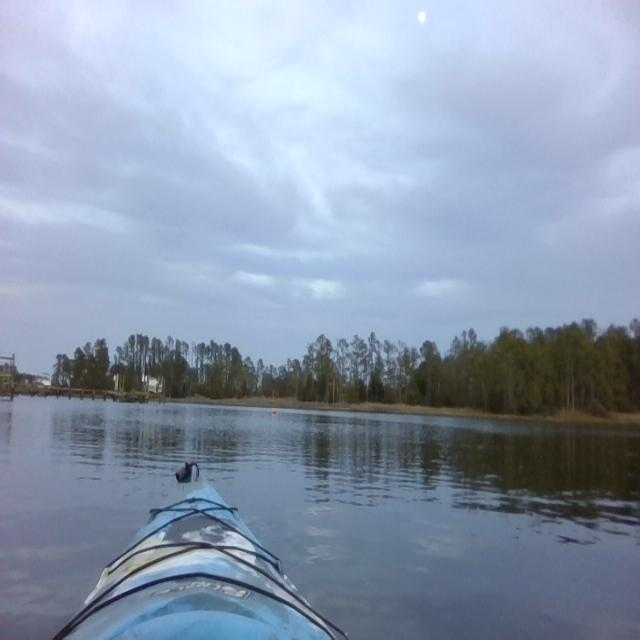Buoy: (271, 405, 278, 417)
